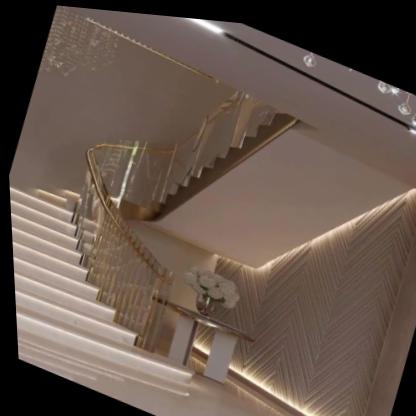Ceramic floor: (13, 328, 288, 416)
